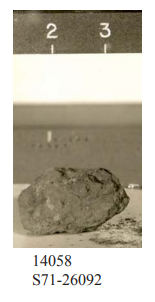Breccia: (23, 158, 128, 230)
